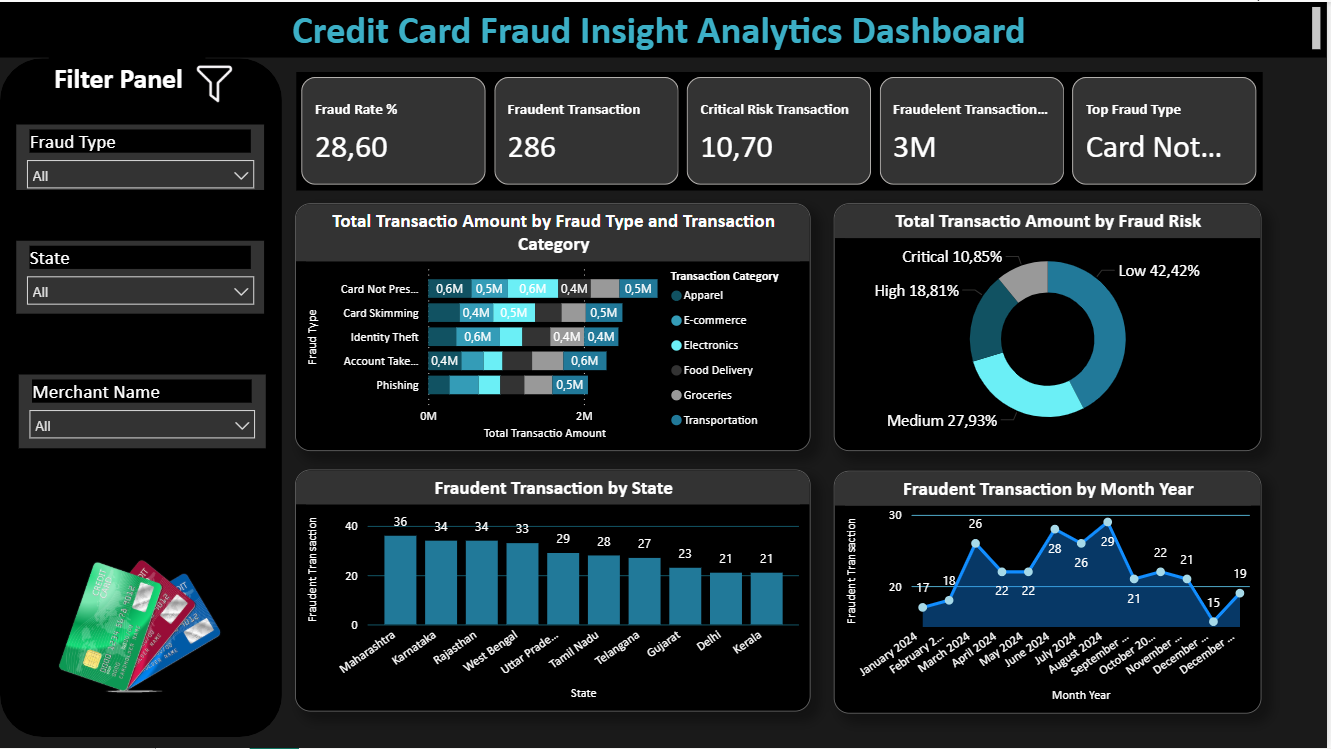

The page's visual inventory and layout, read from the dashboard file:
{"tool":"powerbi","page":{"name":"Page 1","canvas":[1280,720],"ordinal":0},"visuals":[{"type":"textbox","box":[0,0,1279.7,53.4],"z":0},{"type":"shape","box":[0,53.9,272.3,655.2],"z":1000},{"type":"textbox","box":[47.6,53.4,151.5,43.3],"z":2000},{"type":"barChart","fields":{"Y":["Credit Card Fraud Risk Analysis.Total Transactio Amount"],"Category":["Credit Card Fraud Risk Analysis.Fraud Type"],"Series":["Credit Card Fraud Risk Analysis.Transaction Category"]},"box":[284.2,194.8,497.8,239.5],"z":3000},{"type":"donutChart","fields":{"Y":["Credit Card Fraud Risk Analysis.Total Transactio Amount"],"Category":["Credit Card Fraud Risk Analysis.Fraud Risk"]},"box":[805.1,194.8,412.6,239.5],"z":4000},{"type":"columnChart","fields":{"Category":["Credit Card Fraud Risk Analysis.State"],"Y":["Credit Card Fraud Risk Analysis.Fraudent Transaction"]},"box":[284.2,451.6,497.8,233.7],"z":5000},{"type":"lineChart","fields":{"Y":["Credit Card Fraud Risk Analysis.Fraudent Transaction"],"Category":["Credit Card Fraud Risk Analysis.Month Year"]},"box":[805,452,413,234],"z":6000},{"type":"slicer","fields":{"Values":["Credit Card Fraud Risk Analysis.Fraud Type"]},"box":[15.9,118.3,239.5,63.5],"z":7000},{"type":"slicer","fields":{"Values":["Credit Card Fraud Risk Analysis.State"]},"box":[15.9,230.8,239.5,70.7],"z":8000},{"type":"slicer","fields":{"Values":["Credit Card Fraud Risk Analysis.Merchant Name"]},"box":[17.5,359.4,238.1,71.6],"z":9000},{"type":"cardVisual","fields":{"Data":["Credit Card Fraud Risk Analysis.Fraud Rate %","Credit Card Fraud Risk Analysis.Fraudent Transaction","Credit Card Fraud Risk Analysis.Critical Risk Transaction","Credit Card Fraud Risk Analysis.Fraudelent Transaction Amount","Credit Card Fraud Risk Analysis.Top Fraud Type"]},"box":[286.3,68,932.7,114.2],"z":10000},{"type":"image","box":[42.2,509.1,187,187],"z":11000},{"type":"image","box":[184.6,54.3,44.6,49.5],"z":12000}]}

Visuals, with their boxes in screenshot pixels (x1, y1, x2, y2), scaled from the page's 1280x720 canvas onto the 1331x749 screenshot:
textbox: {"x1": 0, "y1": 0, "x2": 1330, "y2": 56}
shape: {"x1": 0, "y1": 56, "x2": 283, "y2": 738}
textbox: {"x1": 49, "y1": 56, "x2": 207, "y2": 101}
barChart - Credit Card Fraud Risk Analysis.Total Transactio Amount x Credit Card Fraud Risk Analysis.Fraud Type: {"x1": 296, "y1": 203, "x2": 813, "y2": 452}
donutChart - Credit Card Fraud Risk Analysis.Total Transactio Amount x Credit Card Fraud Risk Analysis.Fraud Risk: {"x1": 837, "y1": 203, "x2": 1266, "y2": 452}
columnChart - Credit Card Fraud Risk Analysis.State x Credit Card Fraud Risk Analysis.Fraudent Transaction: {"x1": 296, "y1": 470, "x2": 813, "y2": 713}
lineChart - Credit Card Fraud Risk Analysis.Fraudent Transaction x Credit Card Fraud Risk Analysis.Month Year: {"x1": 837, "y1": 470, "x2": 1267, "y2": 714}
slicer - Credit Card Fraud Risk Analysis.Fraud Type: {"x1": 17, "y1": 123, "x2": 266, "y2": 189}
slicer - Credit Card Fraud Risk Analysis.State: {"x1": 17, "y1": 240, "x2": 266, "y2": 314}
slicer - Credit Card Fraud Risk Analysis.Merchant Name: {"x1": 18, "y1": 374, "x2": 266, "y2": 448}
cardVisual - Credit Card Fraud Risk Analysis.Fraud Rate % x Credit Card Fraud Risk Analysis.Fraudent Transaction: {"x1": 298, "y1": 71, "x2": 1268, "y2": 190}
image: {"x1": 44, "y1": 530, "x2": 238, "y2": 724}
image: {"x1": 192, "y1": 56, "x2": 238, "y2": 108}
